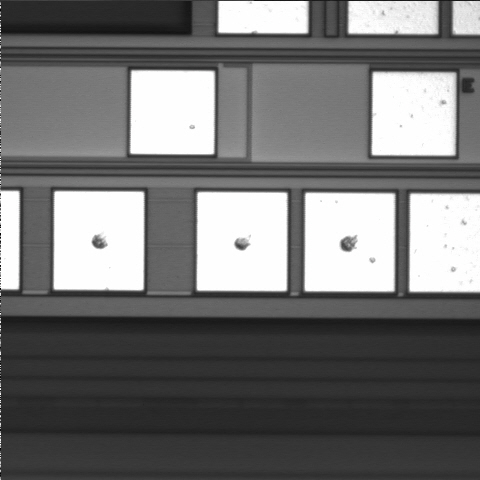pad: (54, 191, 144, 290), (197, 192, 287, 291), (305, 193, 395, 291), (130, 71, 214, 154), (372, 72, 455, 155)
